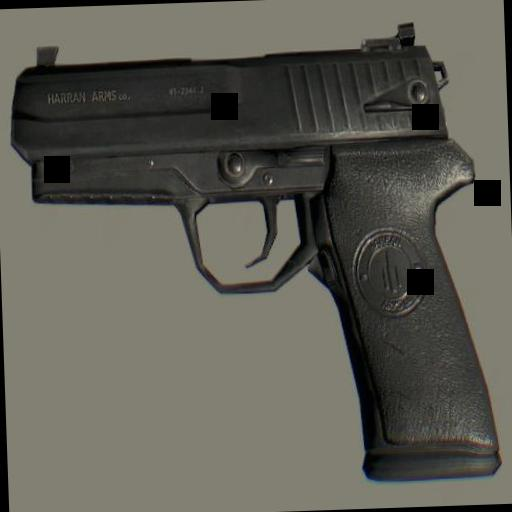Handgun: (11, 15, 501, 497)
